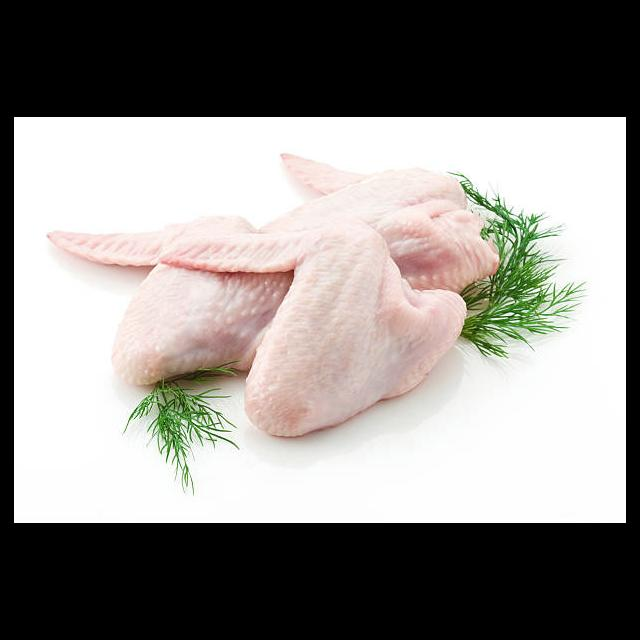chicken: (44, 155, 501, 442)
